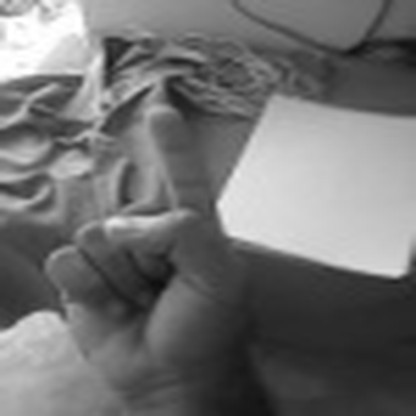d: (49, 99, 254, 374)
